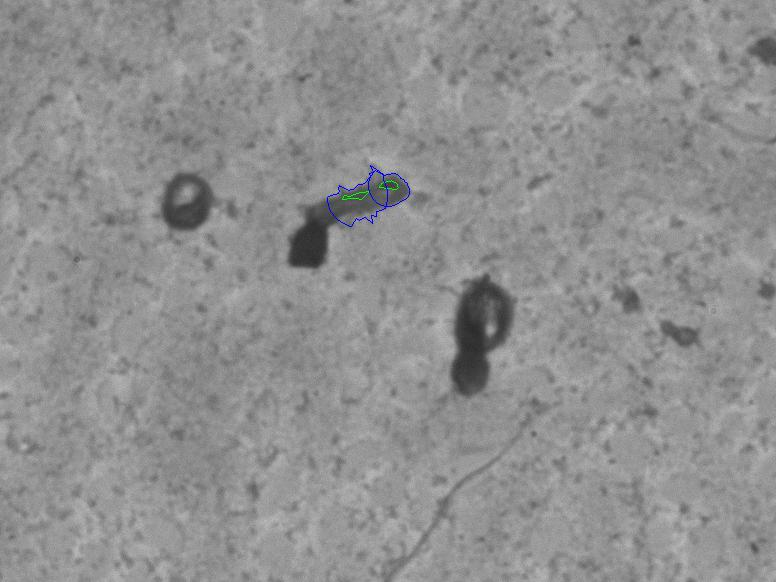Abnormal: (431, 265, 529, 410)
